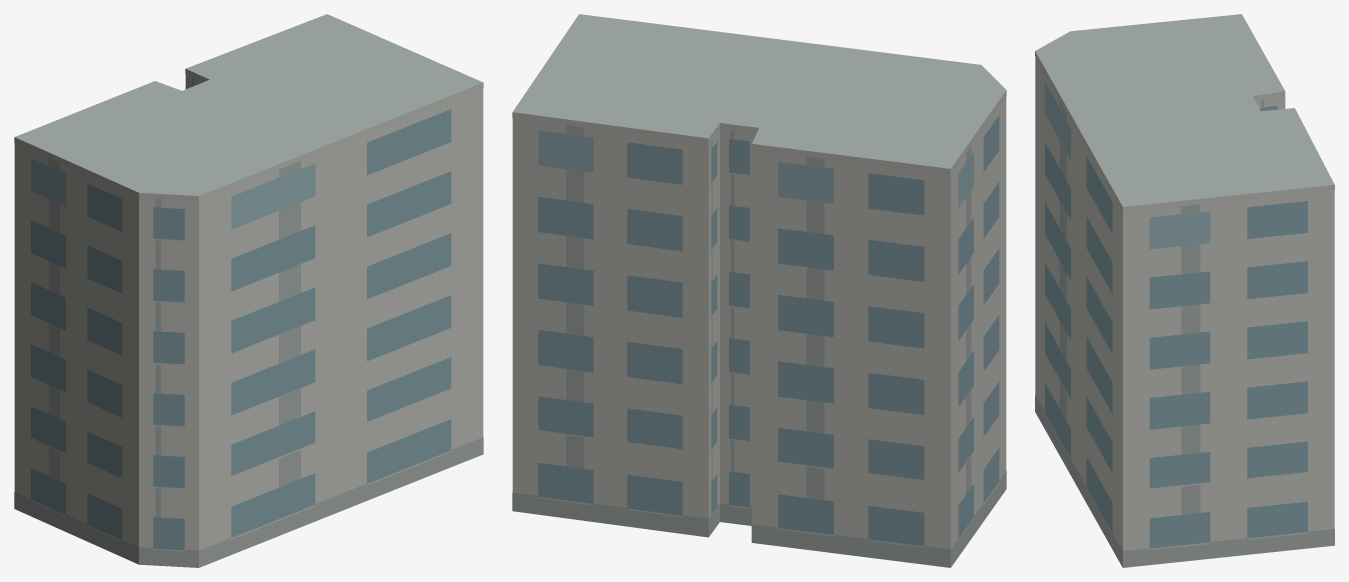
Rendered from survey-upis-32798689.glb.
The picture shows the model from 3 angles, left to right: view 1: azimuth 30°, elevation 25°; view 2: azimuth 150°, elevation 25°; view 3: azimuth 270°, elevation 25°; orthographic projection. The views are drawn at different scales.
Parts seen in each view (by area): view 1: survey-upis-32798689.tmp; view 2: survey-upis-32798689.tmp; view 3: survey-upis-32798689.tmp.
Boxes of the visible parts, x1,y1,x2,y2 form: survey-upis-32798689.tmp: (14,14,483,567); survey-upis-32798689.tmp: (512,14,1006,567); survey-upis-32798689.tmp: (1035,14,1334,567).
Bounding box in the file's own units: 18.82 × 16.4 × 12.35.
